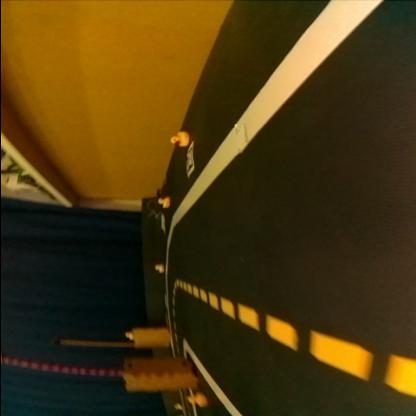Duckie: (187, 393, 207, 408), (169, 133, 187, 147), (156, 198, 168, 208), (153, 265, 163, 273), (124, 334, 132, 341)
QR code: (184, 145, 192, 176)
